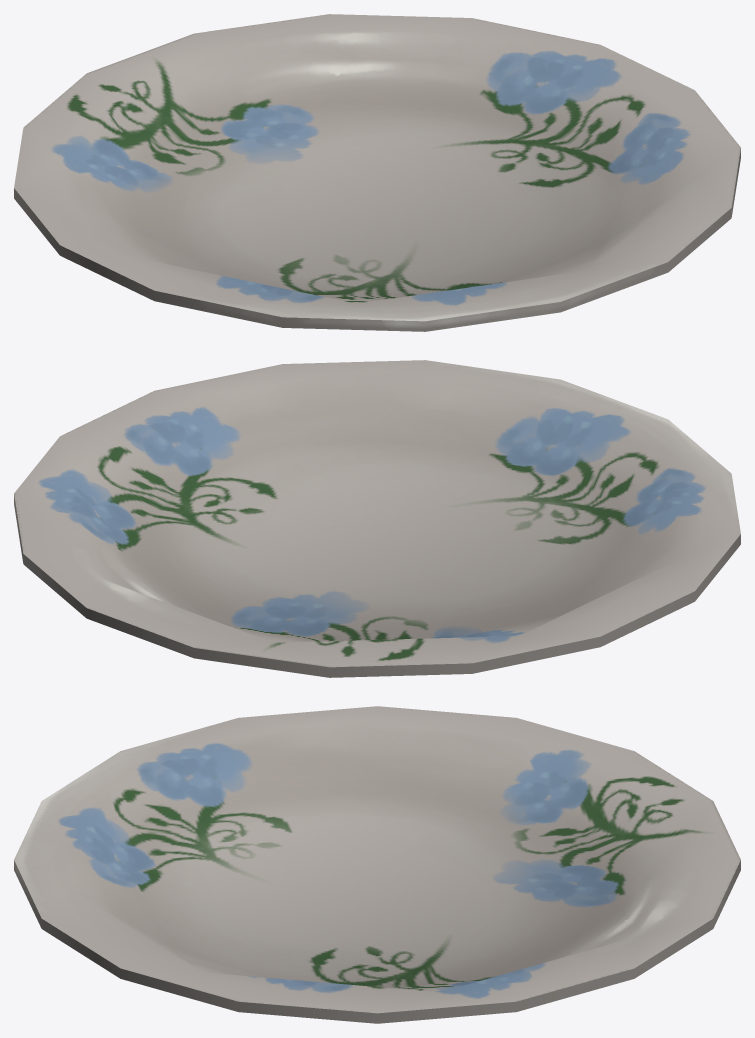
File: plate.fbx
3 renders of one model, top to bottom at view 1: azimuth 30°, elevation 25°; view 2: azimuth 150°, elevation 25°; view 3: azimuth 270°, elevation 25°, orthographic.
Visible parts, largest first — view 1: plate; view 2: plate; view 3: plate.
Boxes of the visible parts, <box> form: plate: <box>14,14,740,331</box>; plate: <box>14,360,740,677</box>; plate: <box>14,706,740,1023</box>.
Bounding box in the file's own units: 52.18 × 3.18 × 52.18.
